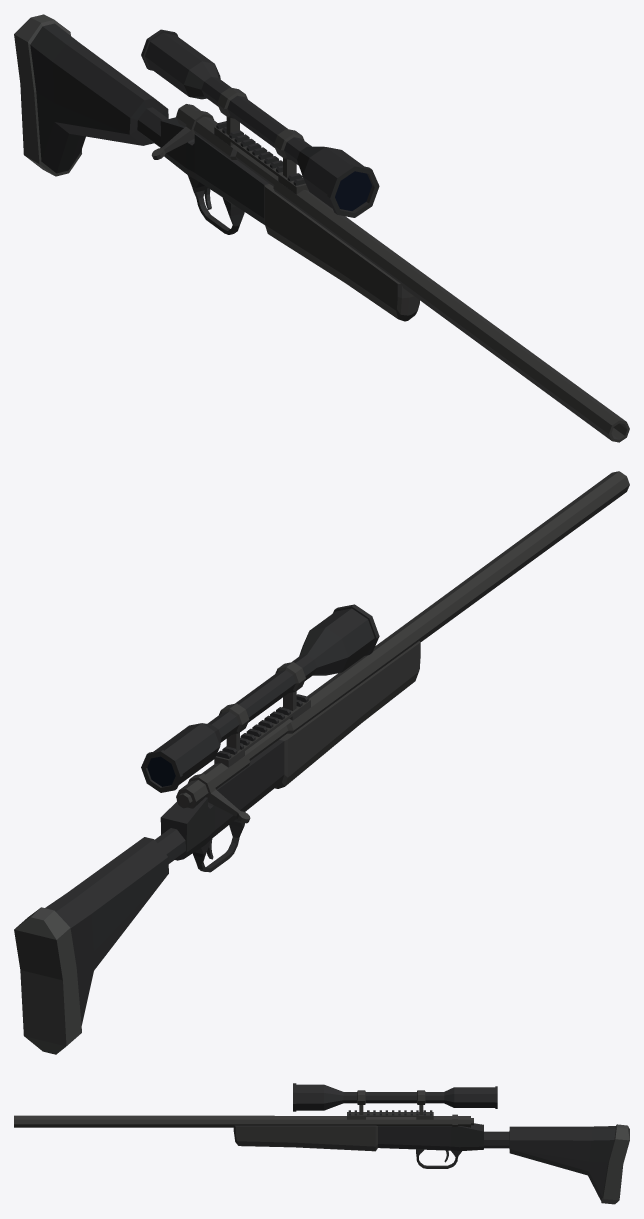
Rendered from sniper-4.glb.
3 renders of one model, top to bottom at view 1: azimuth 30°, elevation 25°; view 2: azimuth 150°, elevation 25°; view 3: azimuth 270°, elevation 25°, orthographic. The views are drawn at different scales.
Visible parts, largest first — view 1: sniper-4; view 2: sniper-4; view 3: sniper-4.
Part boxes in pixels (box(x1,y1,x2,y2)): sniper-4: box(14, 14, 629, 442); sniper-4: box(14, 471, 629, 1054); sniper-4: box(14, 1083, 629, 1204).
Bounding box in the file's own units: 0.0756 × 0.2218 × 1.04.
